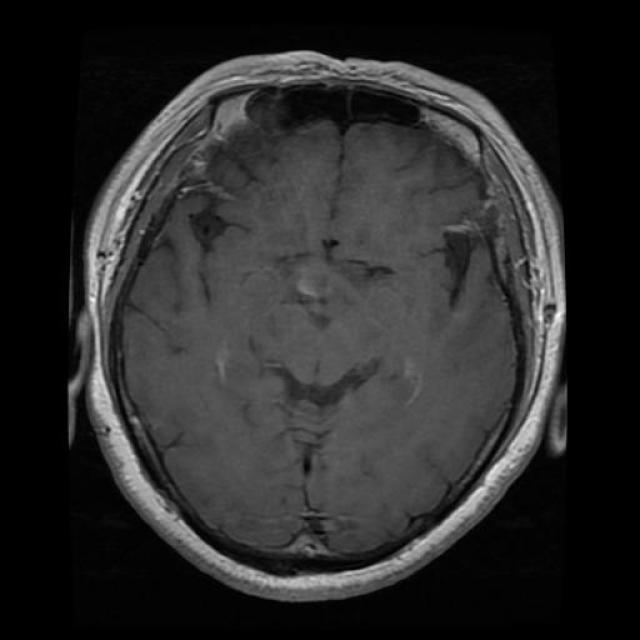pituitary: (278, 242, 352, 316)
